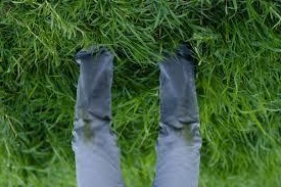earth: (185, 123, 193, 146), (86, 119, 93, 142)
